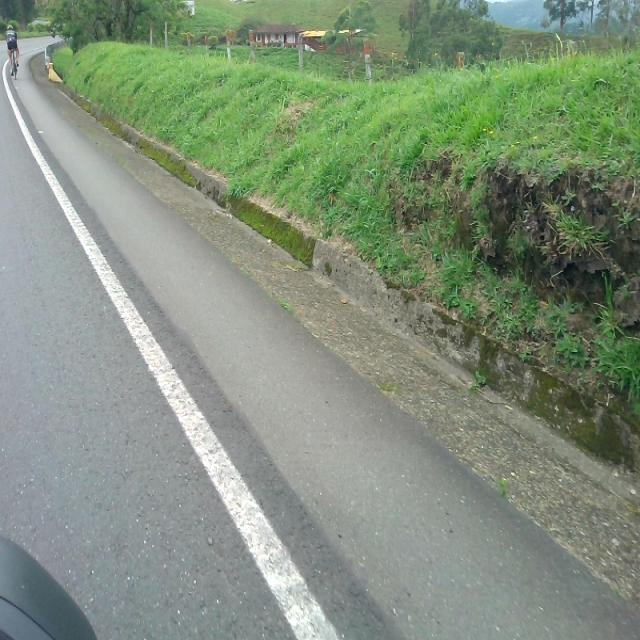DITCH: (6, 39, 638, 637), (1, 85, 638, 637)
